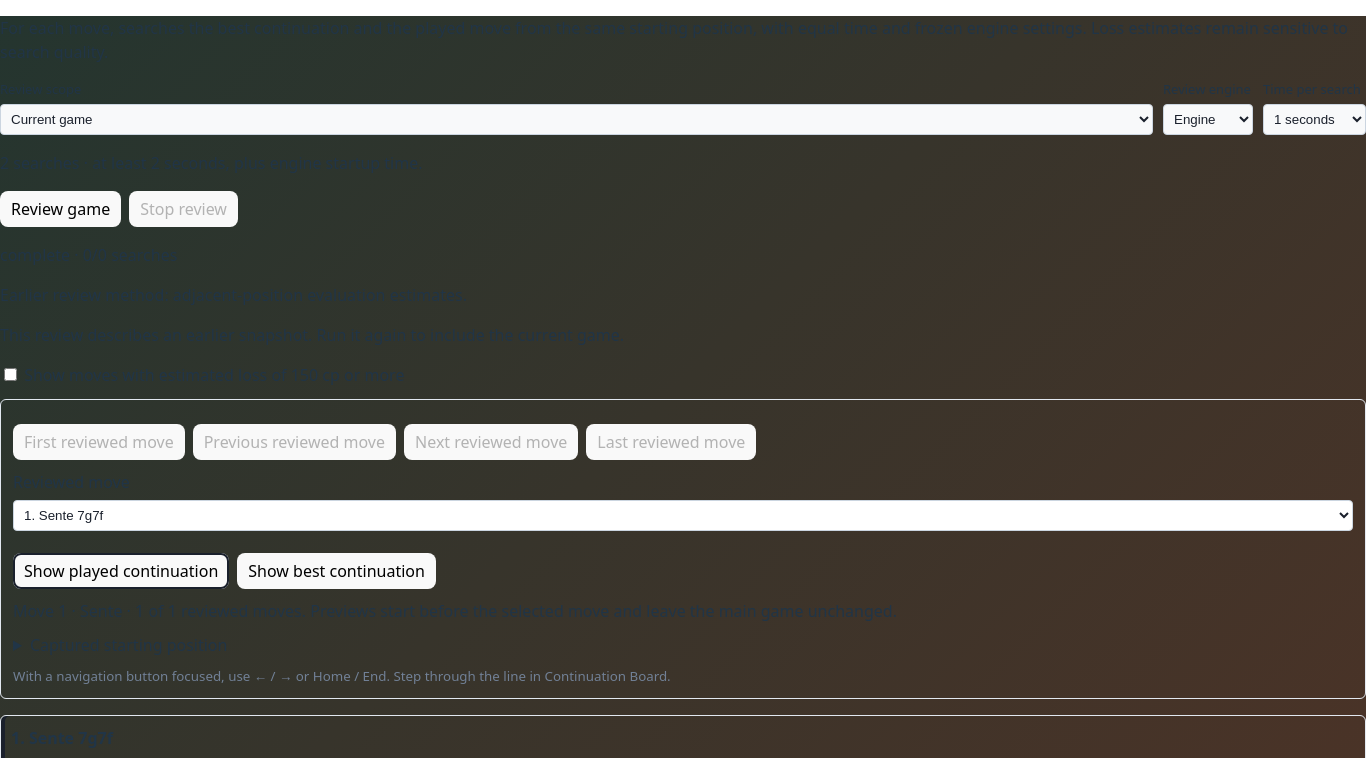
it: hides navigation when a filter has no matching moves
What coordinates should you click on to do the following:
click the checkbox
I would click on:
 (10, 374)
Its box is 4,368 -> 17,380.
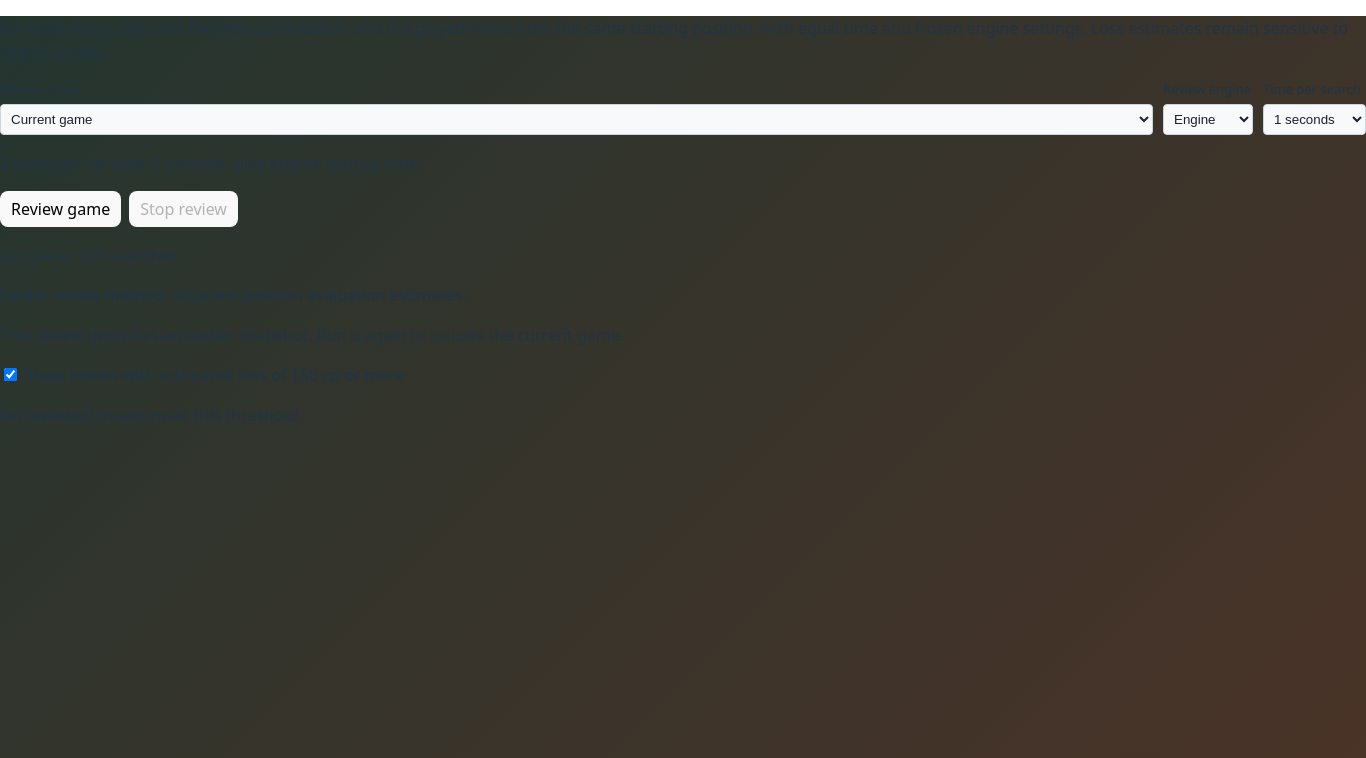
expect the text "No reviewed moves meet this threshold." is shown: met, box 0,404 -> 302,426
